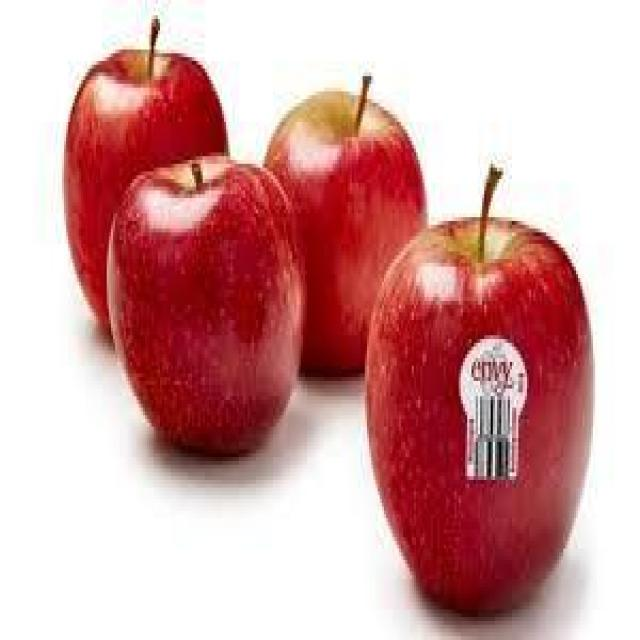maca: (363, 160, 595, 613), (110, 126, 303, 462), (268, 35, 428, 381), (48, 3, 234, 292)
